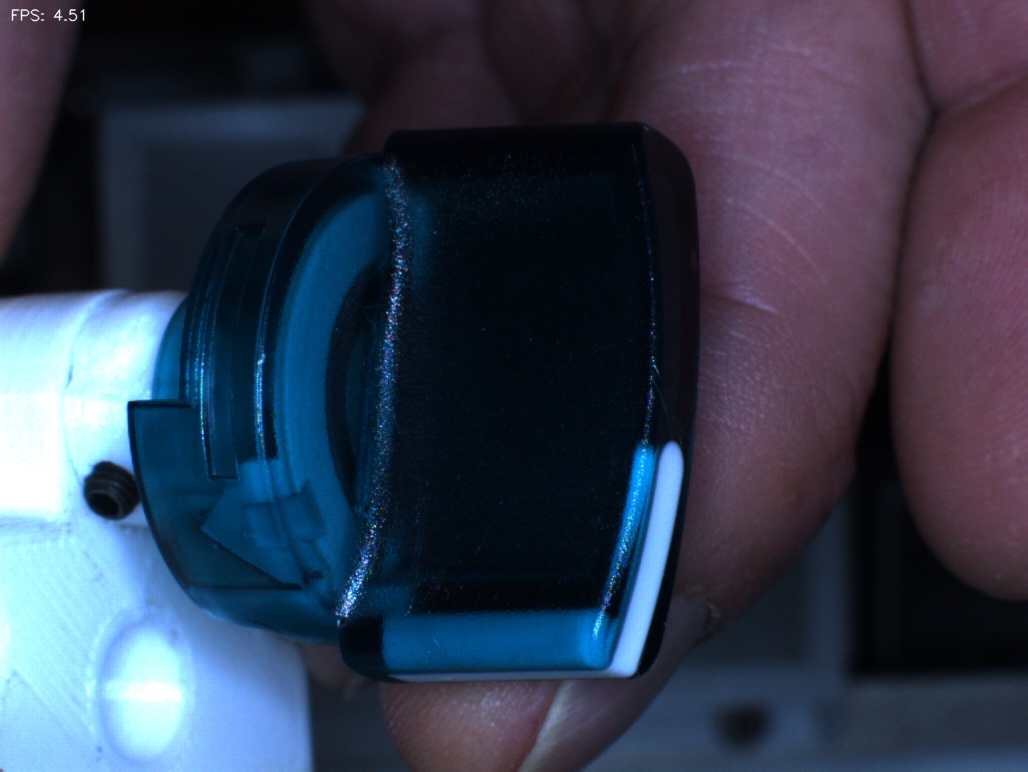Givrage: (390, 467, 458, 628)
